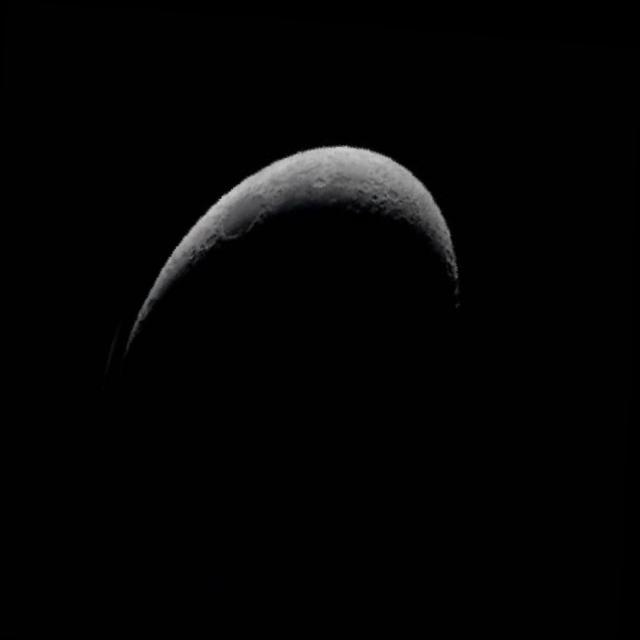moon: (85, 87, 503, 590)
